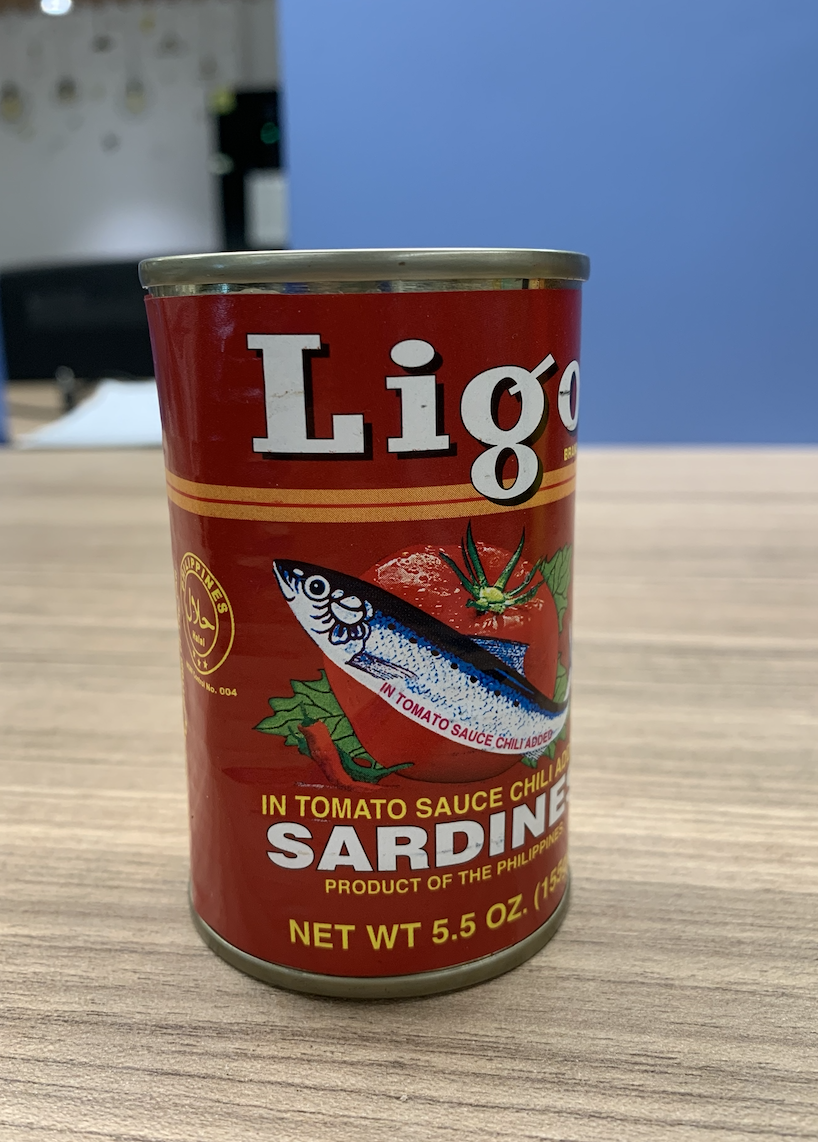sardines_150g: (175, 288, 570, 947)
